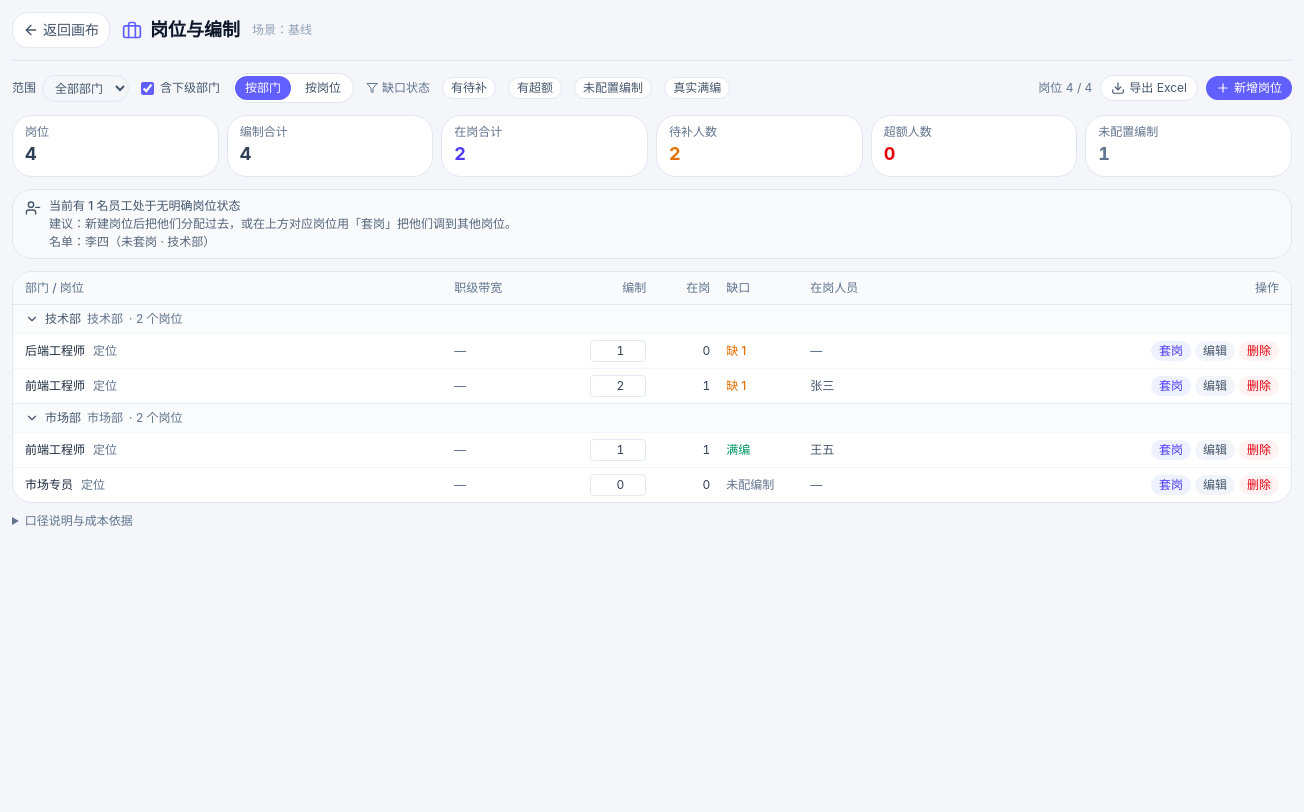
it: V2.4.0 套岗：候选人要能看出现在在哪 › 展开候选人面板，每人显示「现属 部门 › 岗位」
The width and height of the screenshot is (1304, 812).
Click the button "套岗" in the row of "后端工程师" at (1171, 351), box x1=1151 y1=341 x2=1191 y2=361
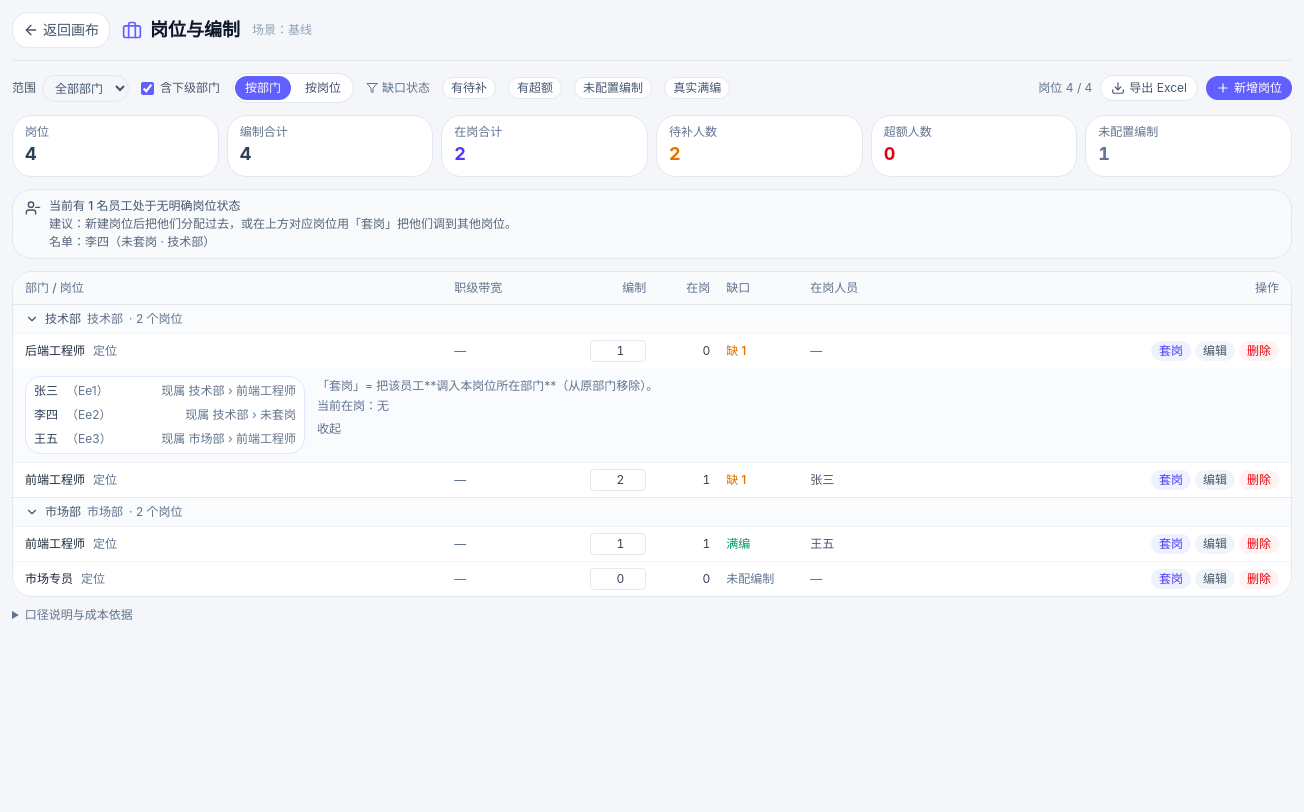
Now the row that starts with "Ee1" is shown, box x1=13 y1=368 x2=1291 y2=462
Now the button "王五 （Ee3） 现属 市场部 › 前端工程师" is shown, box x1=26 y1=427 x2=304 y2=451
